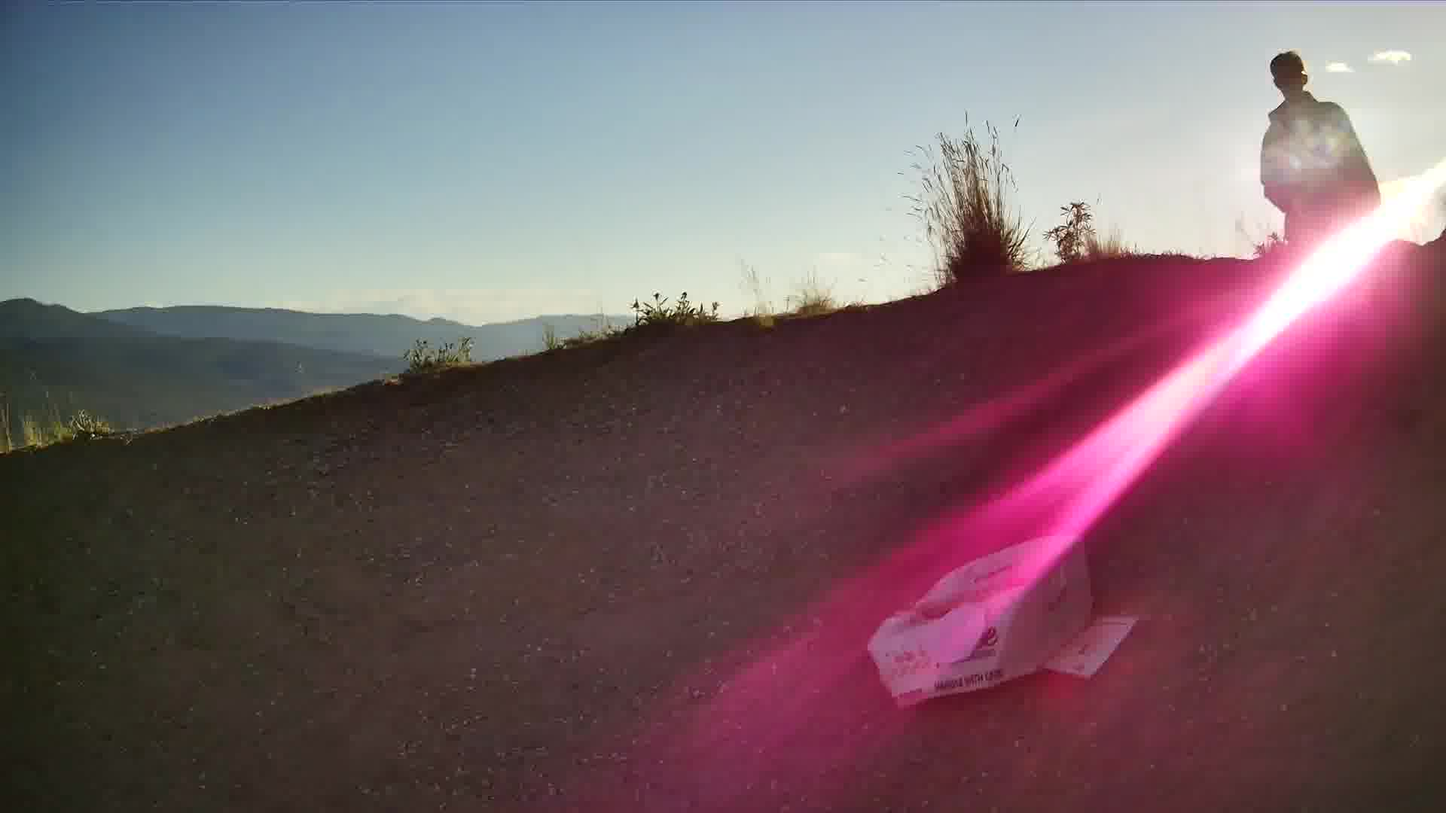Target: (924, 600, 980, 668)
